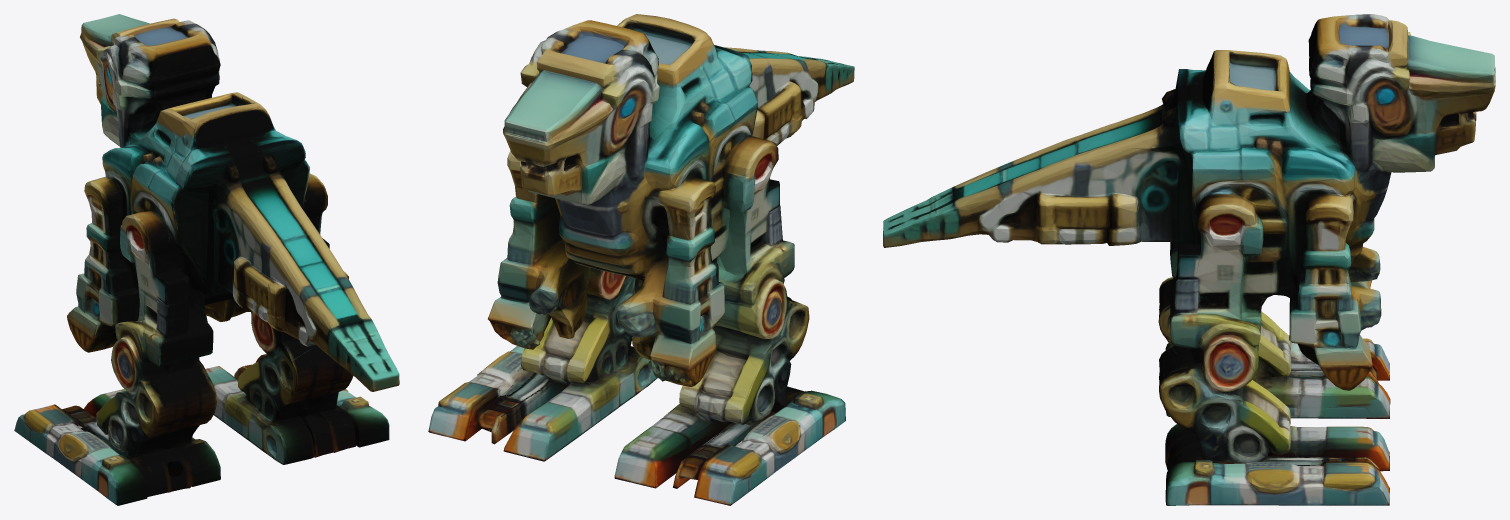
The picture shows the model from 3 angles, left to right: view 1: azimuth 30°, elevation 25°; view 2: azimuth 150°, elevation 25°; view 3: azimuth 270°, elevation 25°; orthographic projection. The views are drawn at different scales.
Parts seen in each view (by area): view 1: world; view 2: world; view 3: world.
Boxes of the visible parts, bbox=[...] form: world: bbox=[14, 14, 399, 505]; world: bbox=[428, 14, 854, 505]; world: bbox=[883, 14, 1495, 505].
Size of the model in its own units: 0.5519 by 0.7253 by 0.9914.
Materials: 1 (1 with a texture image).
